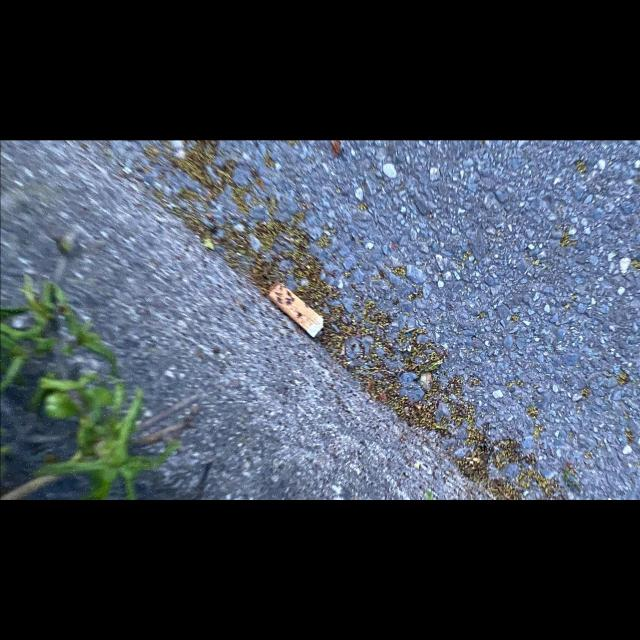cigarette: (266, 281, 324, 338)
